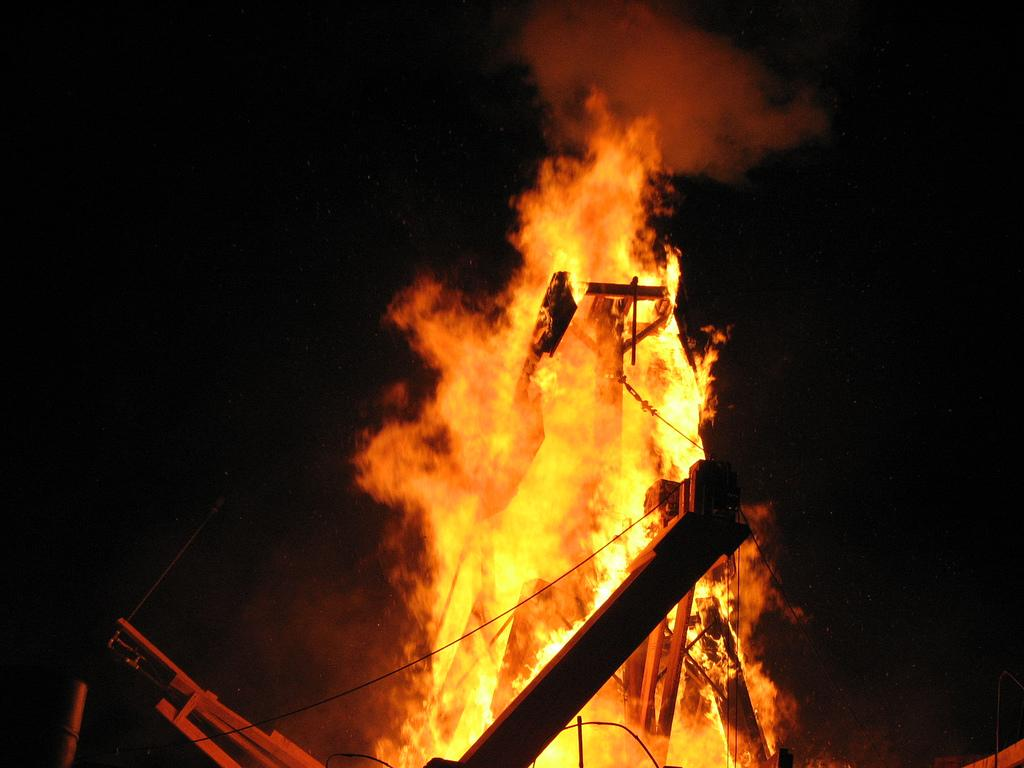fire: (400, 292, 692, 536), (394, 548, 598, 690), (514, 152, 662, 276)
